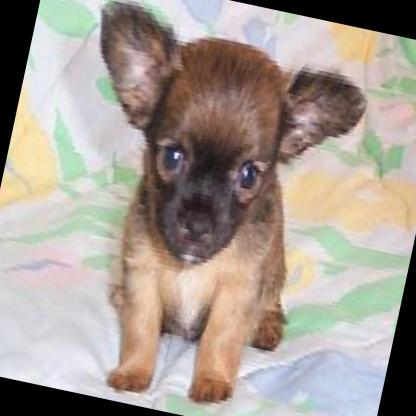Brabancon_griffon: (22, 0, 374, 416)
